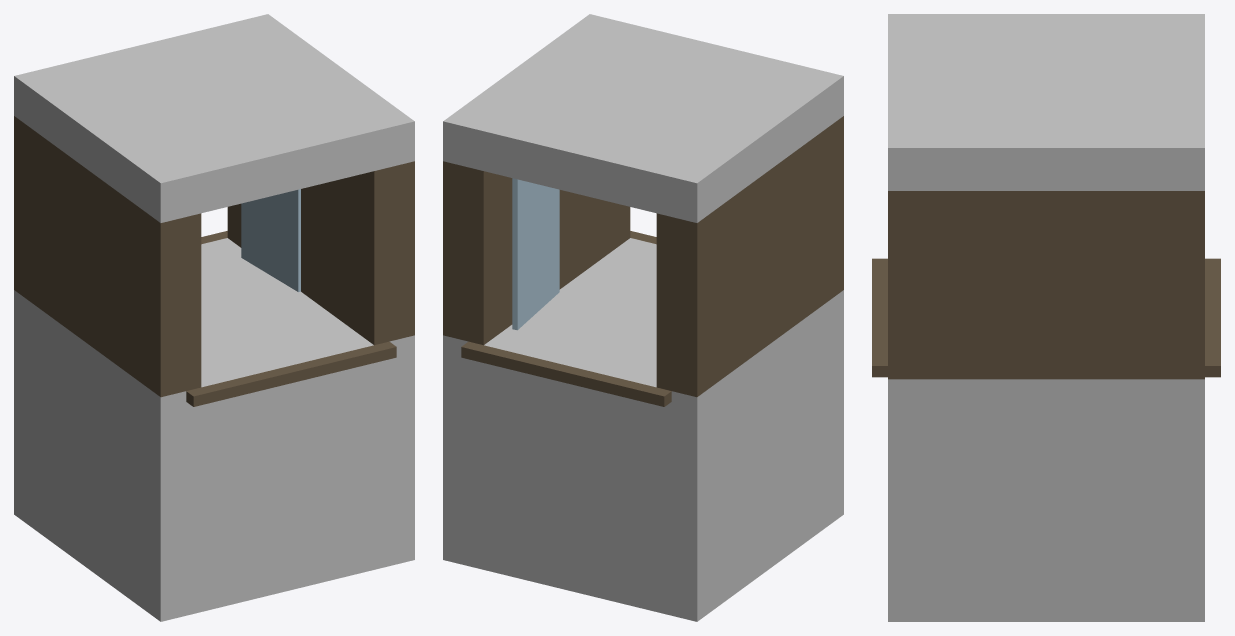
Rendered from pz_window_wall_open_b.obj.
3 views of the same model, side by side, from view 1: azimuth 30°, elevation 25°; view 2: azimuth 150°, elevation 25°; view 3: azimuth 270°, elevation 25° (orthographic). The views are drawn at different scales.
Bounding box in the file's own units: 1 × 1.65 × 1.1.
